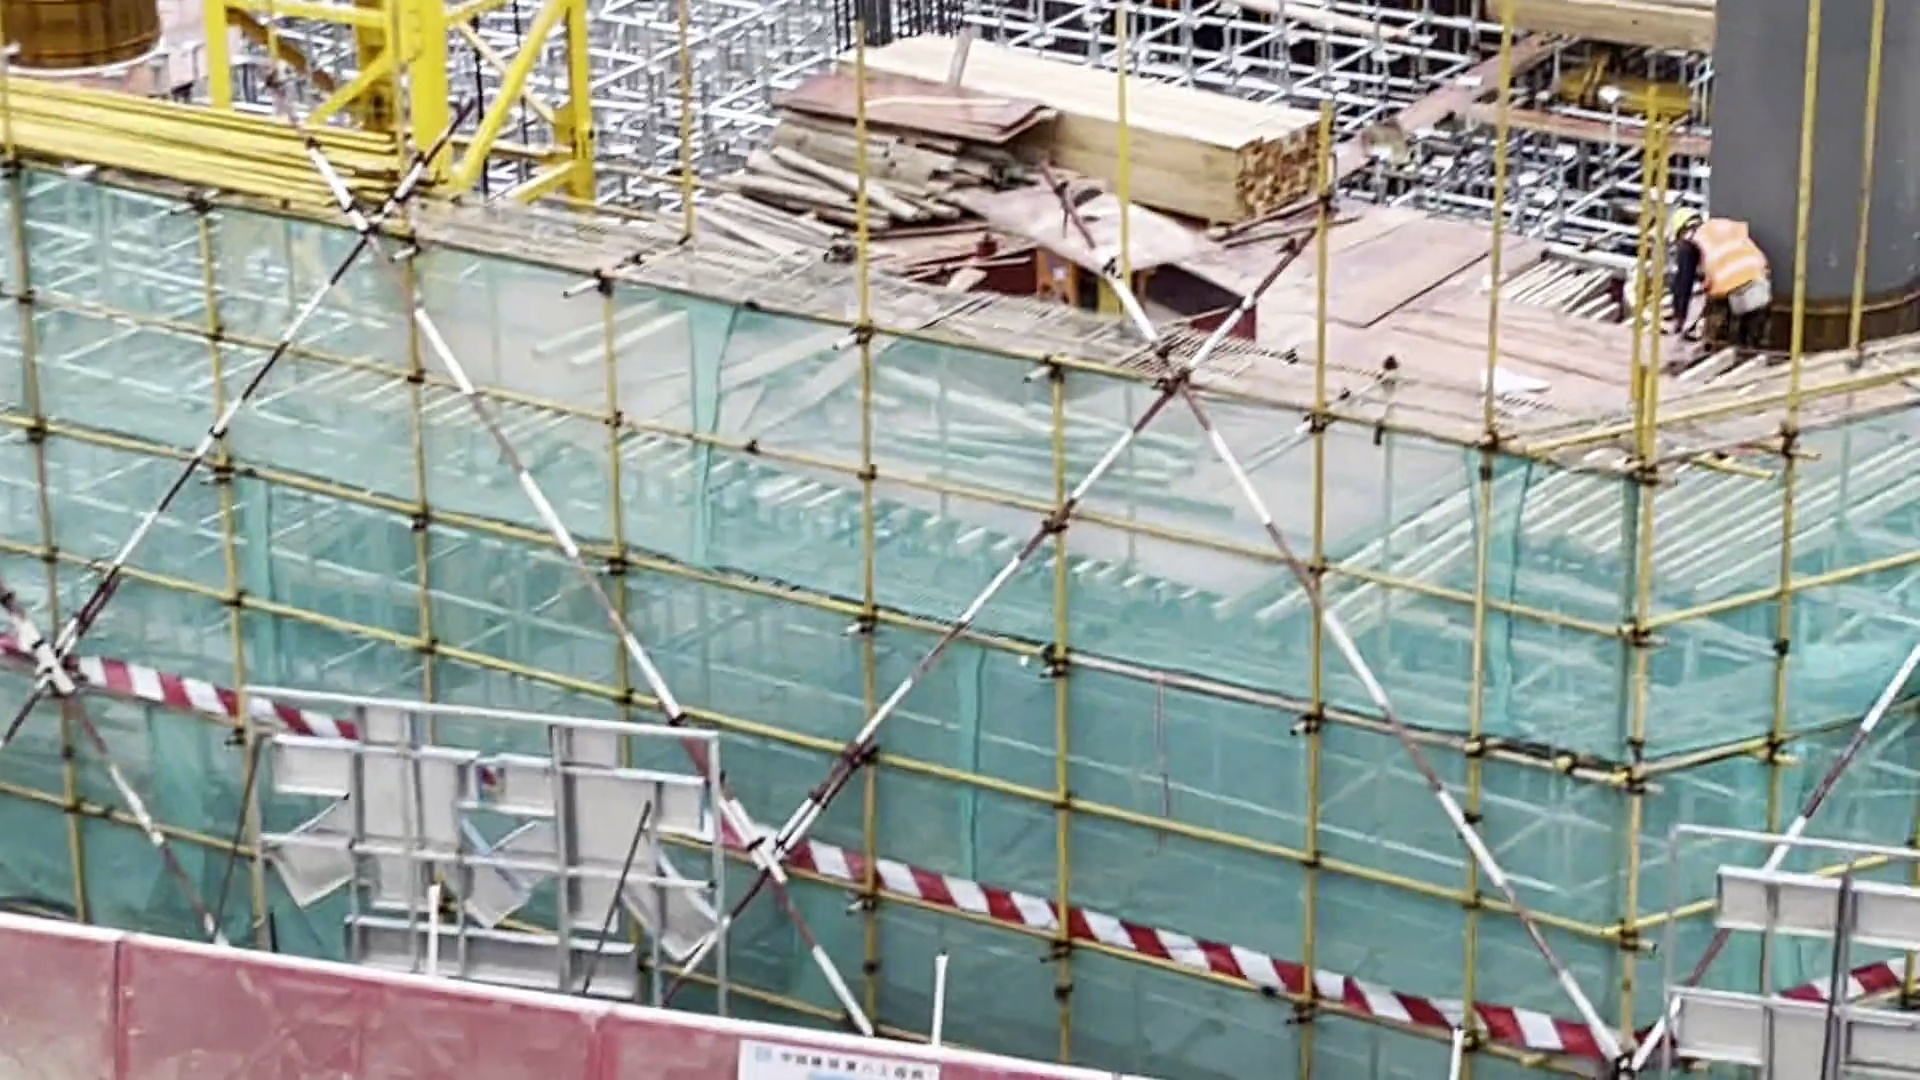cutter: (972, 184, 1223, 319)
helmet: (1659, 200, 1724, 248)
person: (1652, 205, 1783, 347)
vest: (1693, 225, 1770, 297)
wood: (868, 29, 1329, 200), (678, 124, 1013, 253)
